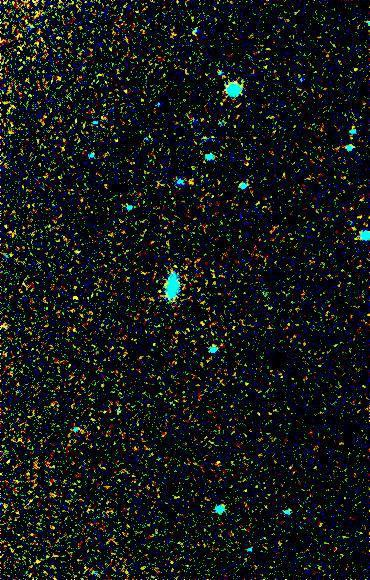star: (176, 168, 206, 198)
